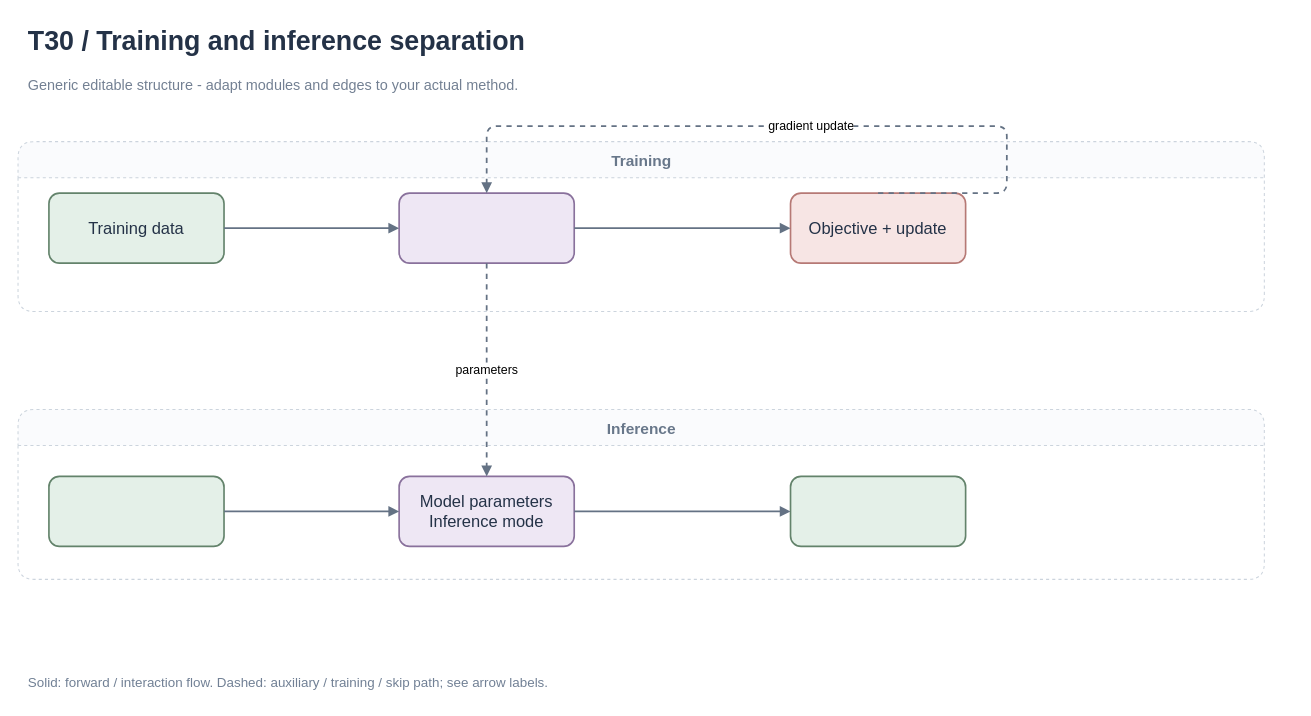
The diagram is 1311 pixels wide and 716 high, and some of its shapes have lost their labels. The box of each missing label's shape, as (x1, y1, x2, y2) in pixels:
New input: (48, 475, 224, 547)
Prediction: (789, 475, 966, 547)
Shared model: (398, 192, 575, 263)
